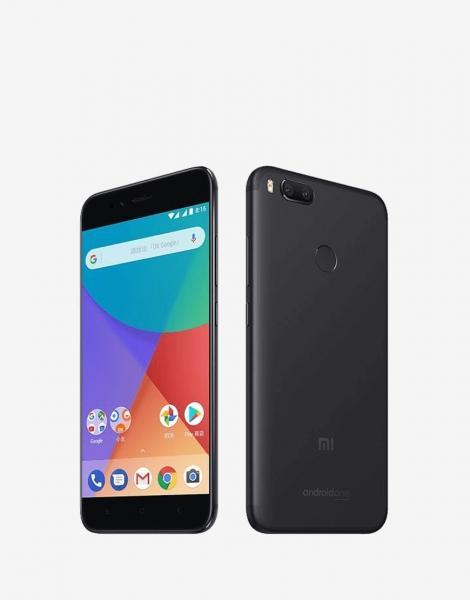mobile: (239, 164, 400, 541), (77, 160, 228, 551)
